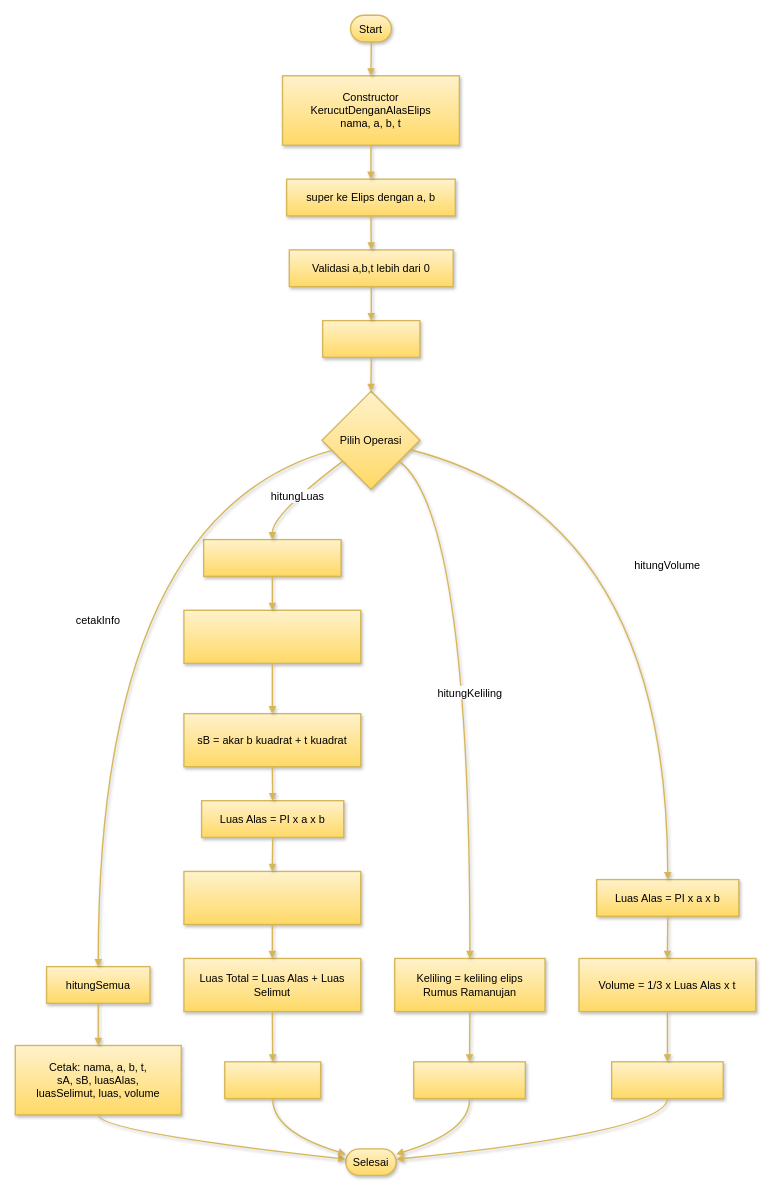
The diagram is 772 pixels wide and 1192 high, and some of its shapes have lost their labels. Here are the shapes that lost their labels. From the top down, the centre of each, then its label:
pixel 371 339: Object Siap
pixel 272 558: Hitung Garis Pelukis
pixel 272 637: sA = akar a kuadrat + t kuadrat
pixel 272 899: Luas Selimut = PI x a x sB + b x sA dibagi 2
pixel 273 1081: Return luas
pixel 470 1081: Return keliling
pixel 668 1081: Return volume
